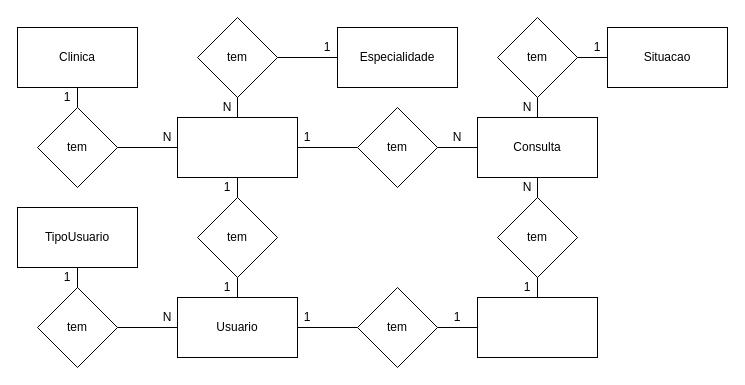
Some shapes in this 745 by 385 pixel diagram are drawn without their labels. The centre of each missing label's shape, as x and y in pixels:
Medico: pixel 237 147
Paciente: pixel 537 327
